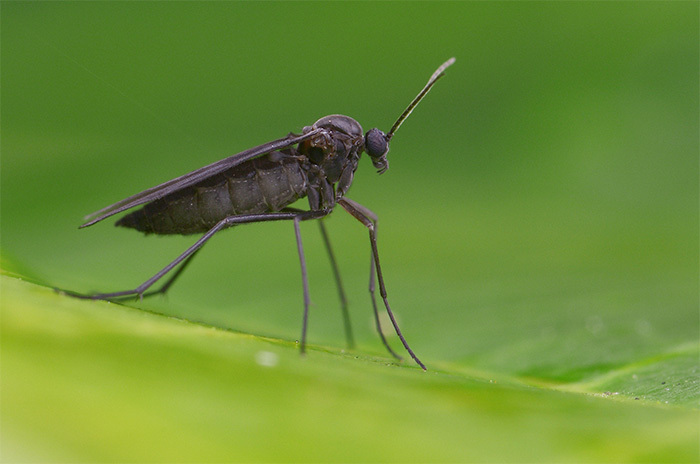Fruit fly: (74, 70, 457, 375)
